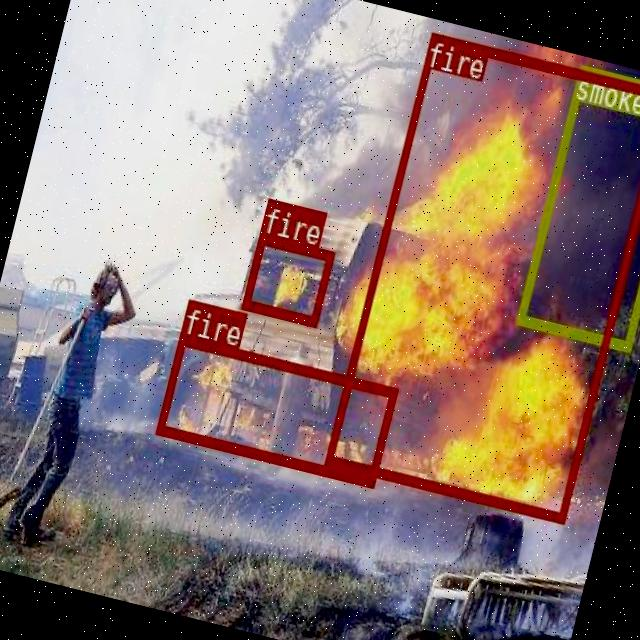fire: (323, 30, 640, 522), (154, 332, 396, 485), (240, 232, 333, 324)
smoke: (514, 63, 640, 350)
